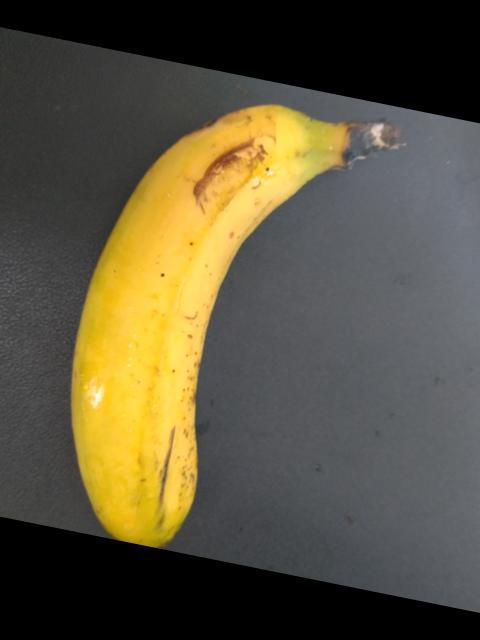ripe: (49, 102, 351, 542)
